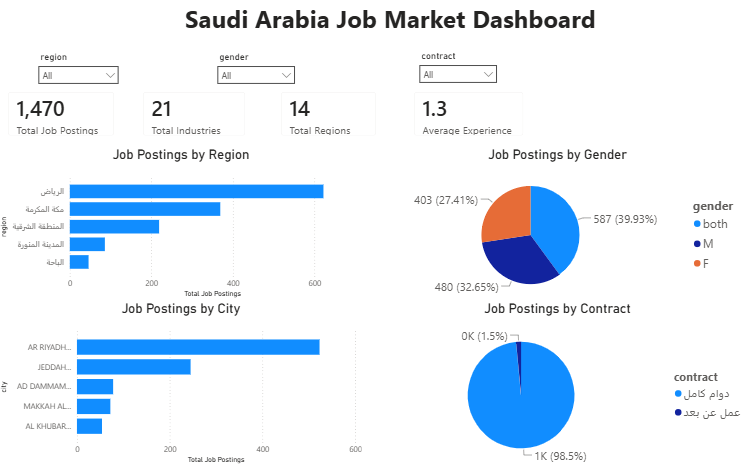

Layout of this report page (visuals, bound fields, positions):
{"tool":"powerbi","page":{"name":"Page 1","canvas":[1280,720],"ordinal":0},"visuals":[{"type":"cardVisual","fields":{"Data":["Jadarat_cleaned.Total Job Postings"]},"box":[0,125.7,197.1,101.4],"z":0},{"type":"cardVisual","fields":{"Data":["Jadarat_cleaned.Total Industries"]},"box":[207.7,126.2,191.4,101.4],"z":1000},{"type":"cardVisual","fields":{"Data":["Jadarat_cleaned.Total Regions"]},"box":[420,126.2,180,101.4],"z":2000},{"type":"cardVisual","title":"Avg. Experience","fields":{"Data":["Jadarat_cleaned.Average Experience"]},"box":[624.6,126.2,202.9,101.4],"z":3000},{"type":"clusteredBarChart","title":"Job Postings by City","fields":{"Category":["Jadarat_cleaned.city"],"Y":["Jadarat_cleaned.Total Job Postings"]},"box":[0,464.6,566.2,255.4],"z":4000},{"type":"pieChart","title":"Job Postings by Gender","fields":{"Category":["Jadarat_cleaned.gender"],"Y":["Jadarat_cleaned.Total Job Postings"]},"box":[566.2,227.7,592.3,236.9],"z":5000},{"type":"clusteredBarChart","title":"Job Postings by Region","fields":{"Category":["Jadarat_cleaned.region"],"Y":["Jadarat_cleaned.Total Job Postings"]},"box":[0,227.7,566.2,236.9],"z":6000},{"type":"pieChart","title":"Job Postings by Contract","fields":{"Category":["Jadarat_cleaned.contract"],"Y":["Jadarat_cleaned.Total Job Postings"]},"box":[566.2,464.6,592.3,255.4],"z":7000},{"type":"slicer","fields":{"Values":["Jadarat_cleaned.region"]},"box":[54.3,75.7,138.6,62.9],"z":8000},{"type":"textbox","box":[161.4,0,698.6,58.6],"z":9000},{"type":"slicer","fields":{"Values":["Jadarat_cleaned.gender"]},"box":[218.6,75.7,138.6,62.9],"z":10000},{"type":"slicer","fields":{"Values":["Jadarat_cleaned.contract"]},"box":[427.1,75.7,138.6,62.9],"z":11000}]}

Visuals, with their boxes on the page's 1280x720 design canvas (x1, y1, x2, y2). These are canvas units, not pixel positions in the 746x466 screenshot, which may show the page scaled, cropped or inside an application window:
cardVisual - Jadarat_cleaned.Total Job Postings: {"x1": 0, "y1": 126, "x2": 197, "y2": 227}
cardVisual - Jadarat_cleaned.Total Industries: {"x1": 208, "y1": 126, "x2": 399, "y2": 228}
cardVisual - Jadarat_cleaned.Total Regions: {"x1": 420, "y1": 126, "x2": 600, "y2": 228}
"Avg. Experience" cardVisual: {"x1": 625, "y1": 126, "x2": 828, "y2": 228}
"Job Postings by City" clusteredBarChart: {"x1": 0, "y1": 465, "x2": 566, "y2": 720}
"Job Postings by Gender" pieChart: {"x1": 566, "y1": 228, "x2": 1158, "y2": 465}
"Job Postings by Region" clusteredBarChart: {"x1": 0, "y1": 228, "x2": 566, "y2": 465}
"Job Postings by Contract" pieChart: {"x1": 566, "y1": 465, "x2": 1158, "y2": 720}
slicer - Jadarat_cleaned.region: {"x1": 54, "y1": 76, "x2": 193, "y2": 139}
textbox: {"x1": 161, "y1": 0, "x2": 860, "y2": 59}
slicer - Jadarat_cleaned.gender: {"x1": 219, "y1": 76, "x2": 357, "y2": 139}
slicer - Jadarat_cleaned.contract: {"x1": 427, "y1": 76, "x2": 566, "y2": 139}
